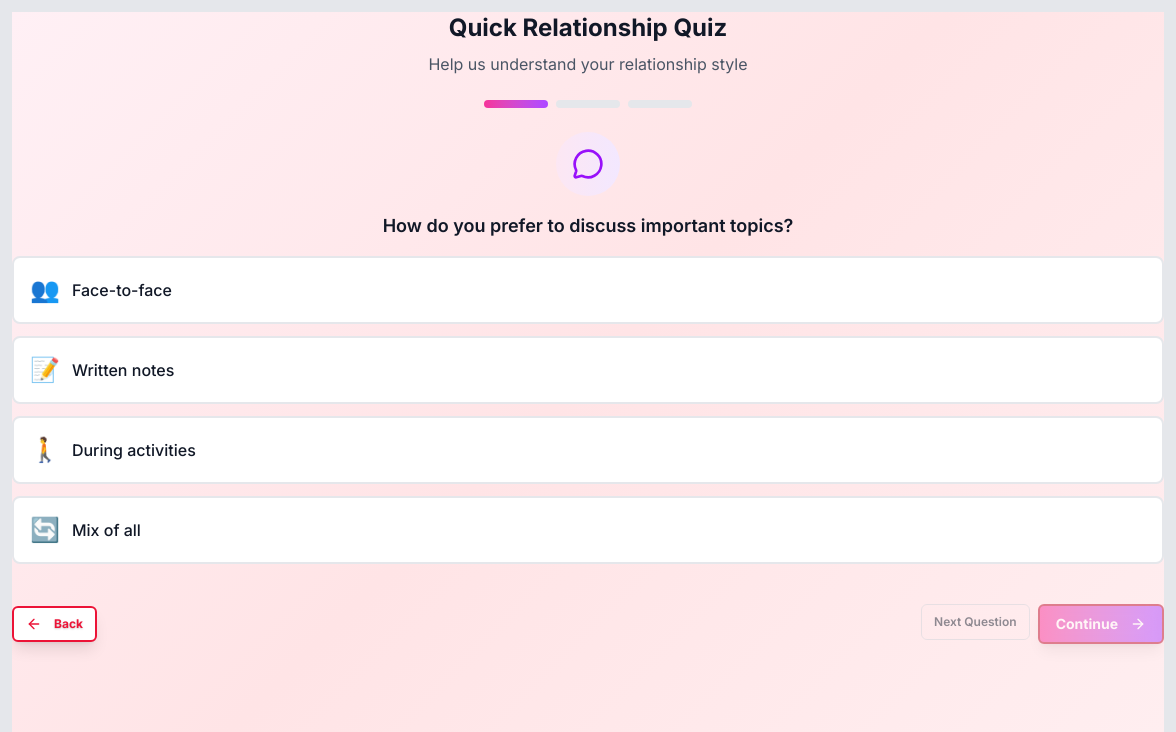
Test: QuizStep › allows navigation to previous question
Answer first question to go to second
Click the text "Face-to-face".
click(122, 290)  # box left=72, top=278, right=172, bottom=302
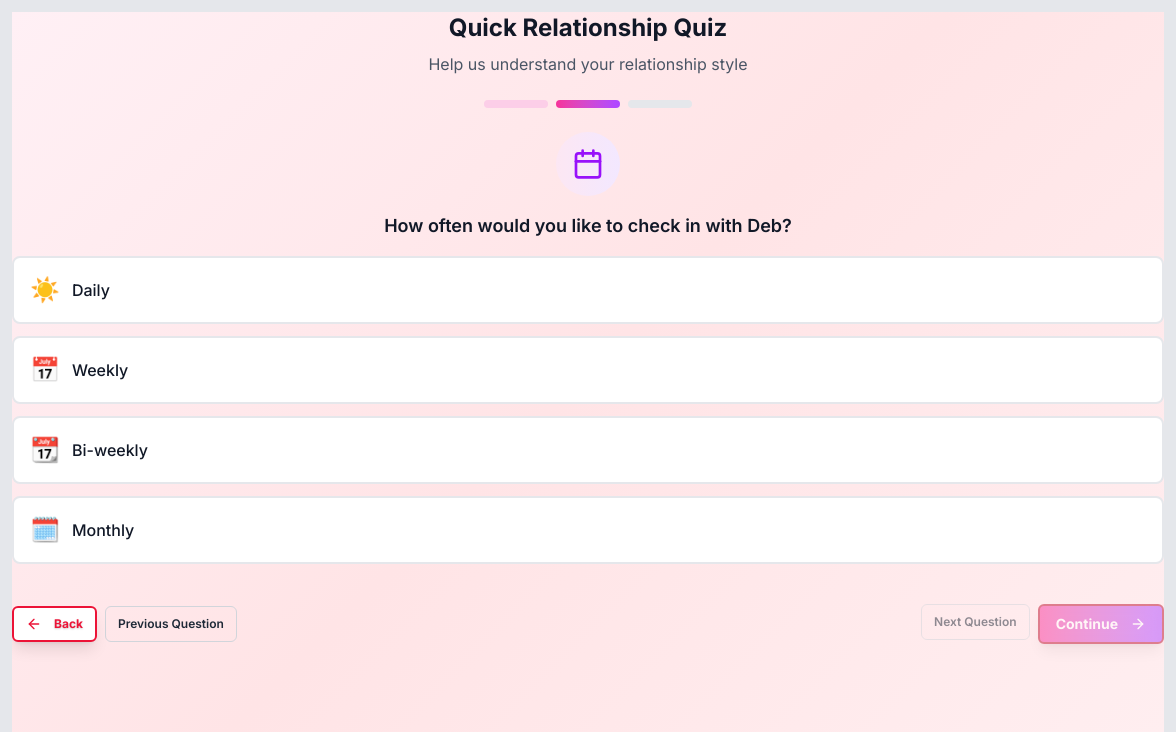
Check: the heading "How often would you like to check in with Deb?" is shown, box left=384, top=215, right=792, bottom=236
Click the button "Previous Question".
click(171, 624)  # box left=105, top=606, right=237, bottom=642
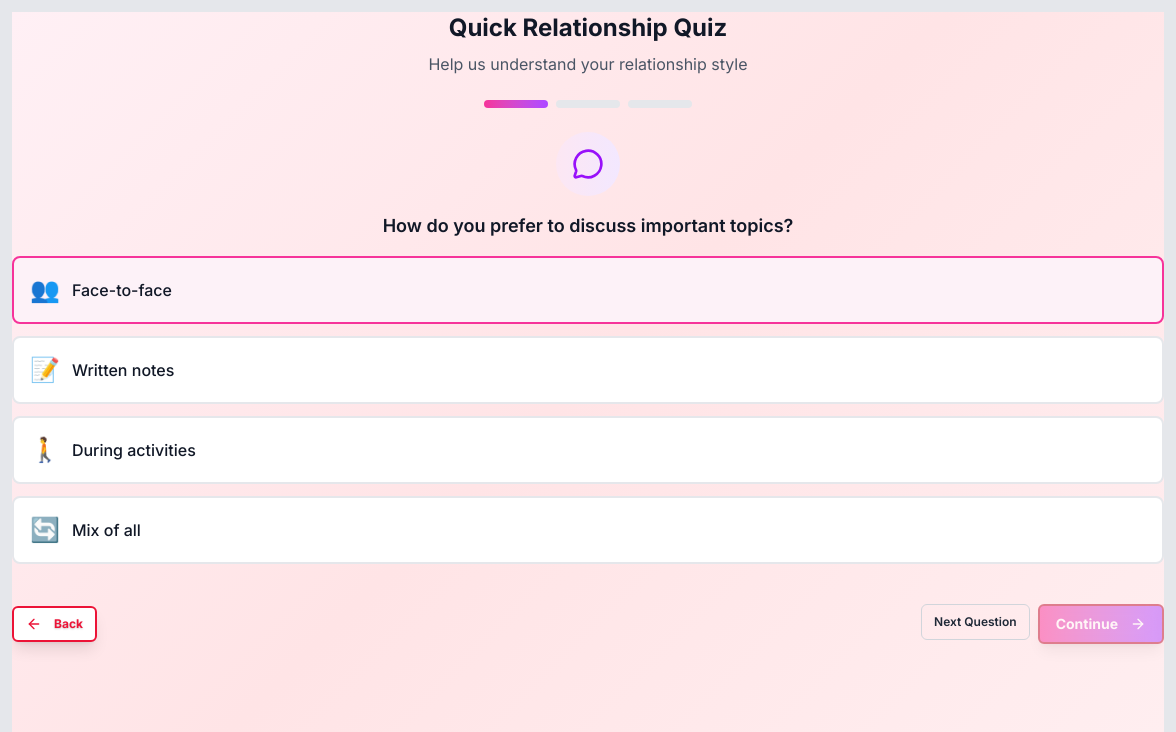
Check: the heading "How do you prefer to discuss important topics?" is shown, box left=383, top=215, right=793, bottom=236
